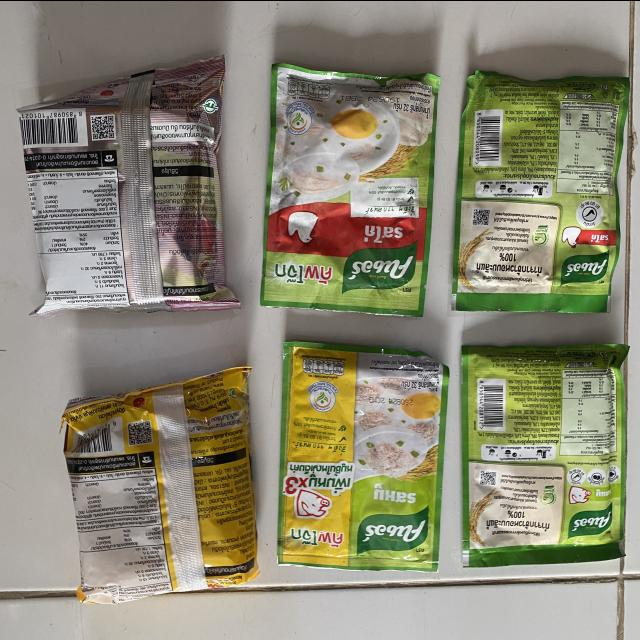plastik: (18, 55, 240, 315), (63, 366, 259, 602), (260, 63, 440, 315), (453, 70, 629, 311), (278, 341, 449, 572), (462, 343, 629, 567)
